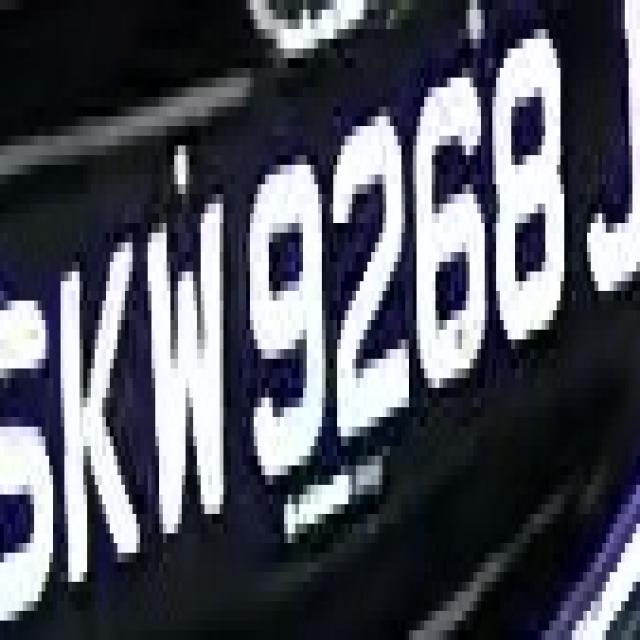2: (326, 107, 409, 485)
6: (413, 49, 485, 426)
8: (488, 58, 580, 388)
9: (231, 155, 333, 524)
K: (53, 242, 144, 620)
S: (4, 262, 57, 620)
W: (144, 213, 235, 562)
